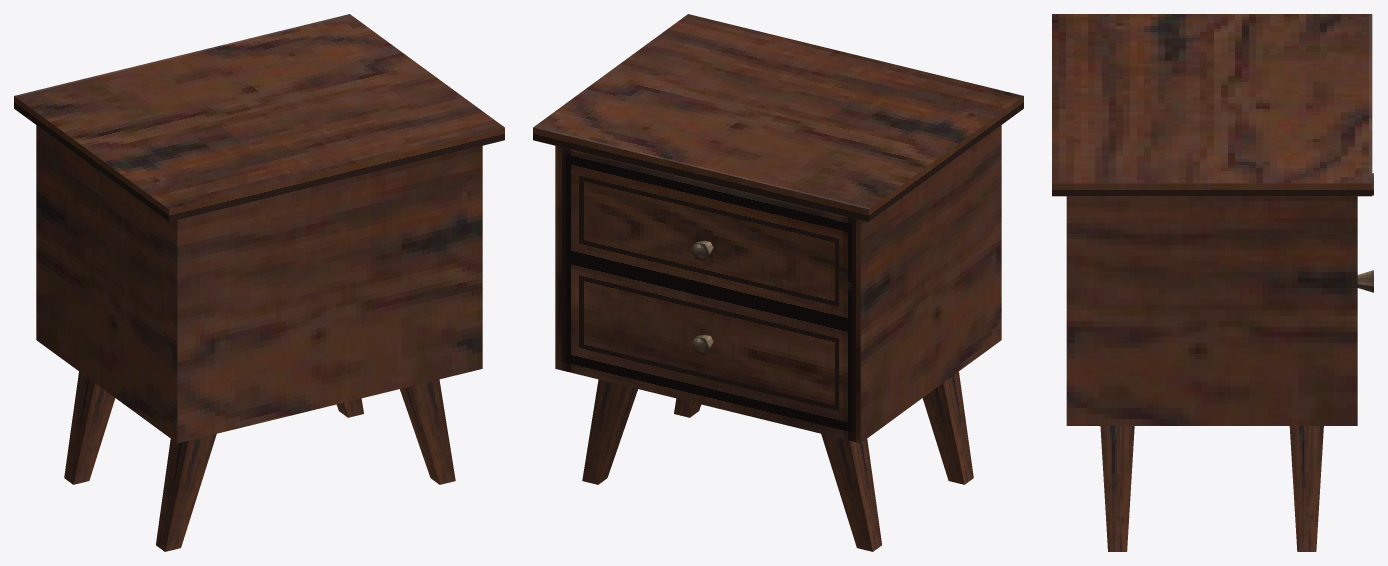
File: nightstandV1.glb
3 renders of one model, left to right at view 1: azimuth 30°, elevation 25°; view 2: azimuth 150°, elevation 25°; view 3: azimuth 270°, elevation 25°, orthographic. The views are drawn at different scales.
Visible parts, largest first — view 1: Cylinder; view 2: Cylinder; view 3: Cylinder.
Boxes of the visible parts, left/top/right/bottom form: Cylinder: left=14, top=14, right=504, bottom=551; Cylinder: left=533, top=14, right=1023, bottom=551; Cylinder: left=1052, top=14, right=1373, bottom=551.
Size of the model in its own units: 0.55 by 0.576 by 0.4422.
1 material, 1 textured.
